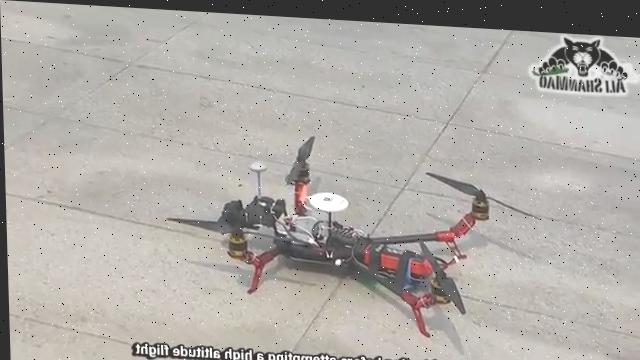drone: (159, 120, 545, 342)
